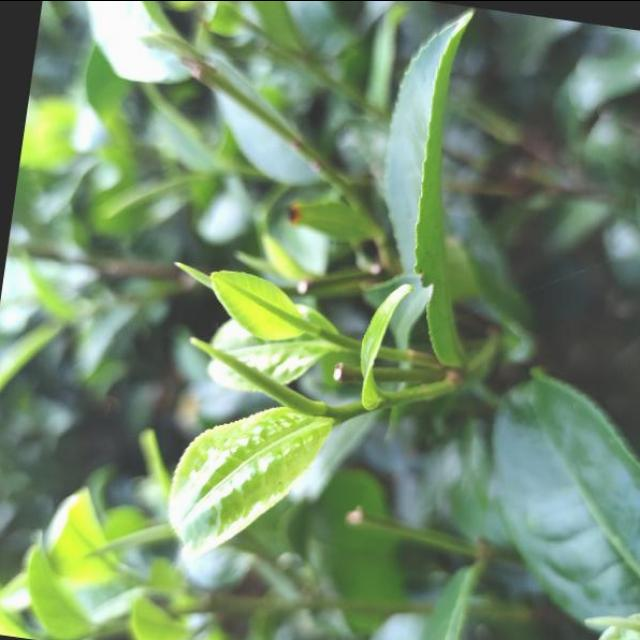Stem: (337, 402, 352, 422)
